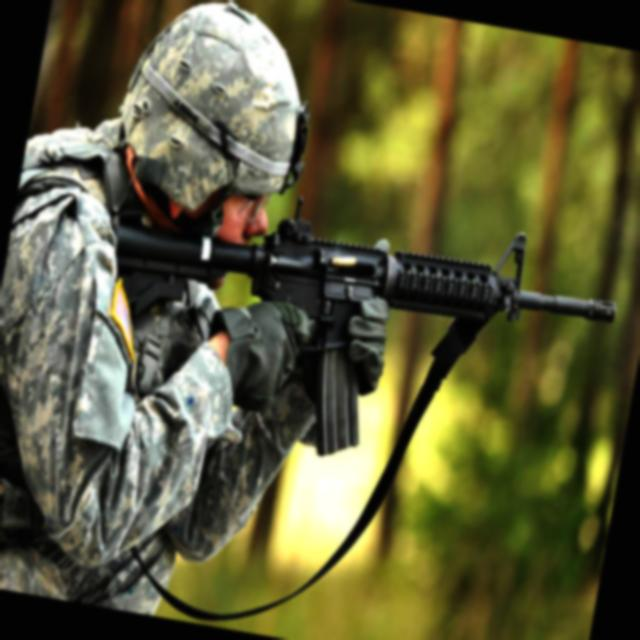m16: (30, 119, 640, 522)
